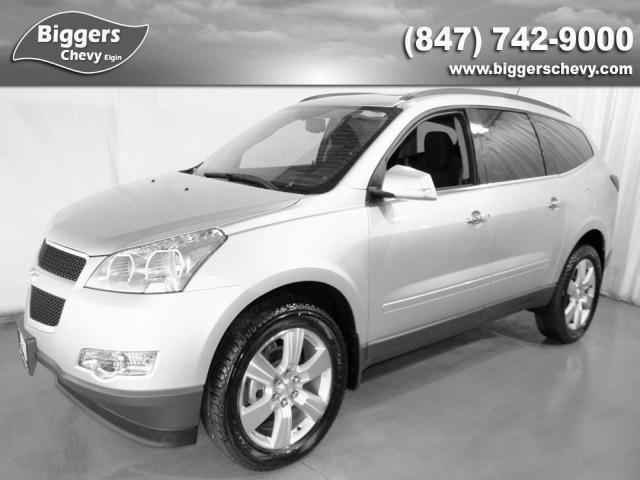car: (18, 90, 623, 462)
